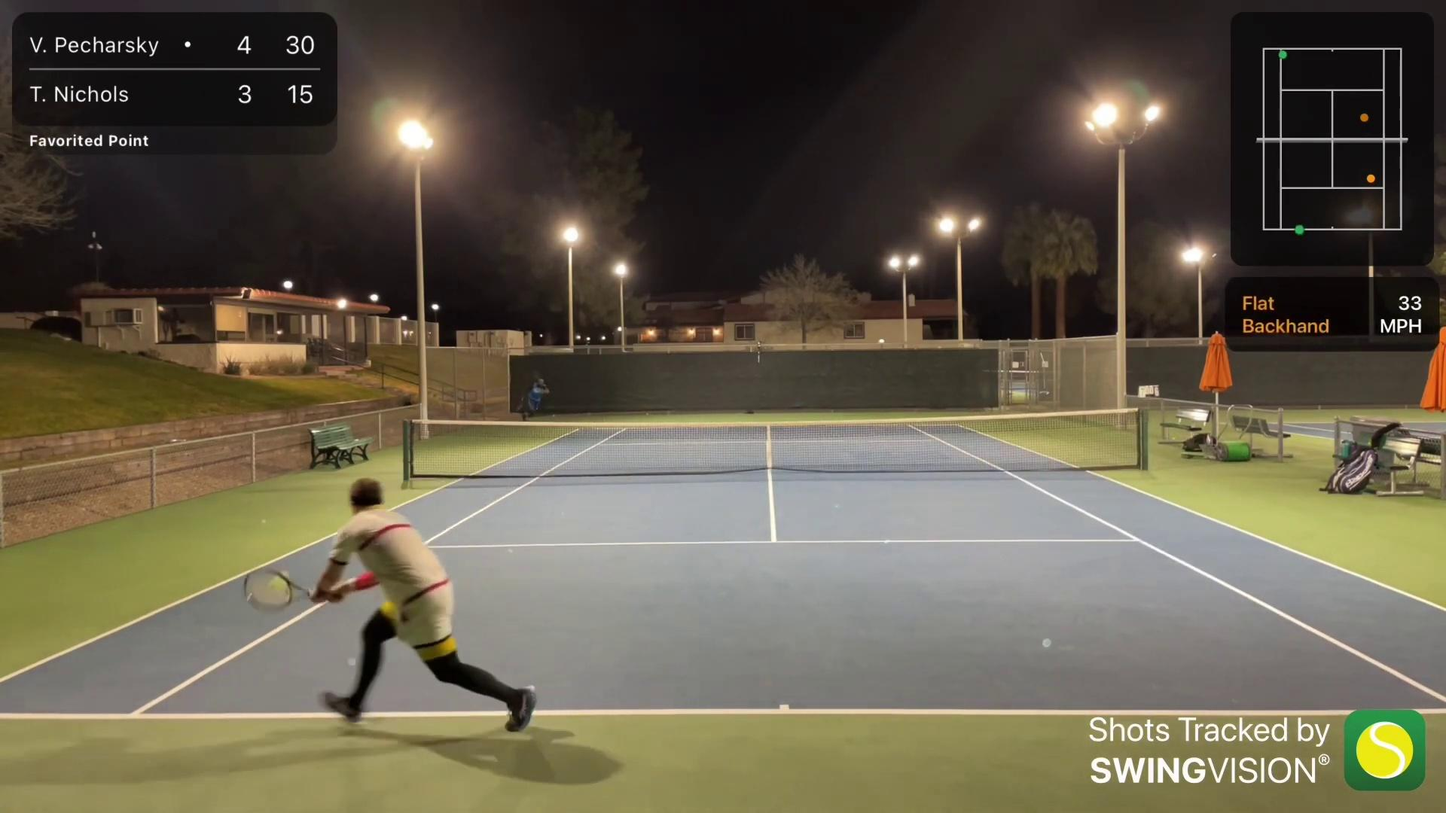ball: (265, 574, 297, 592)
